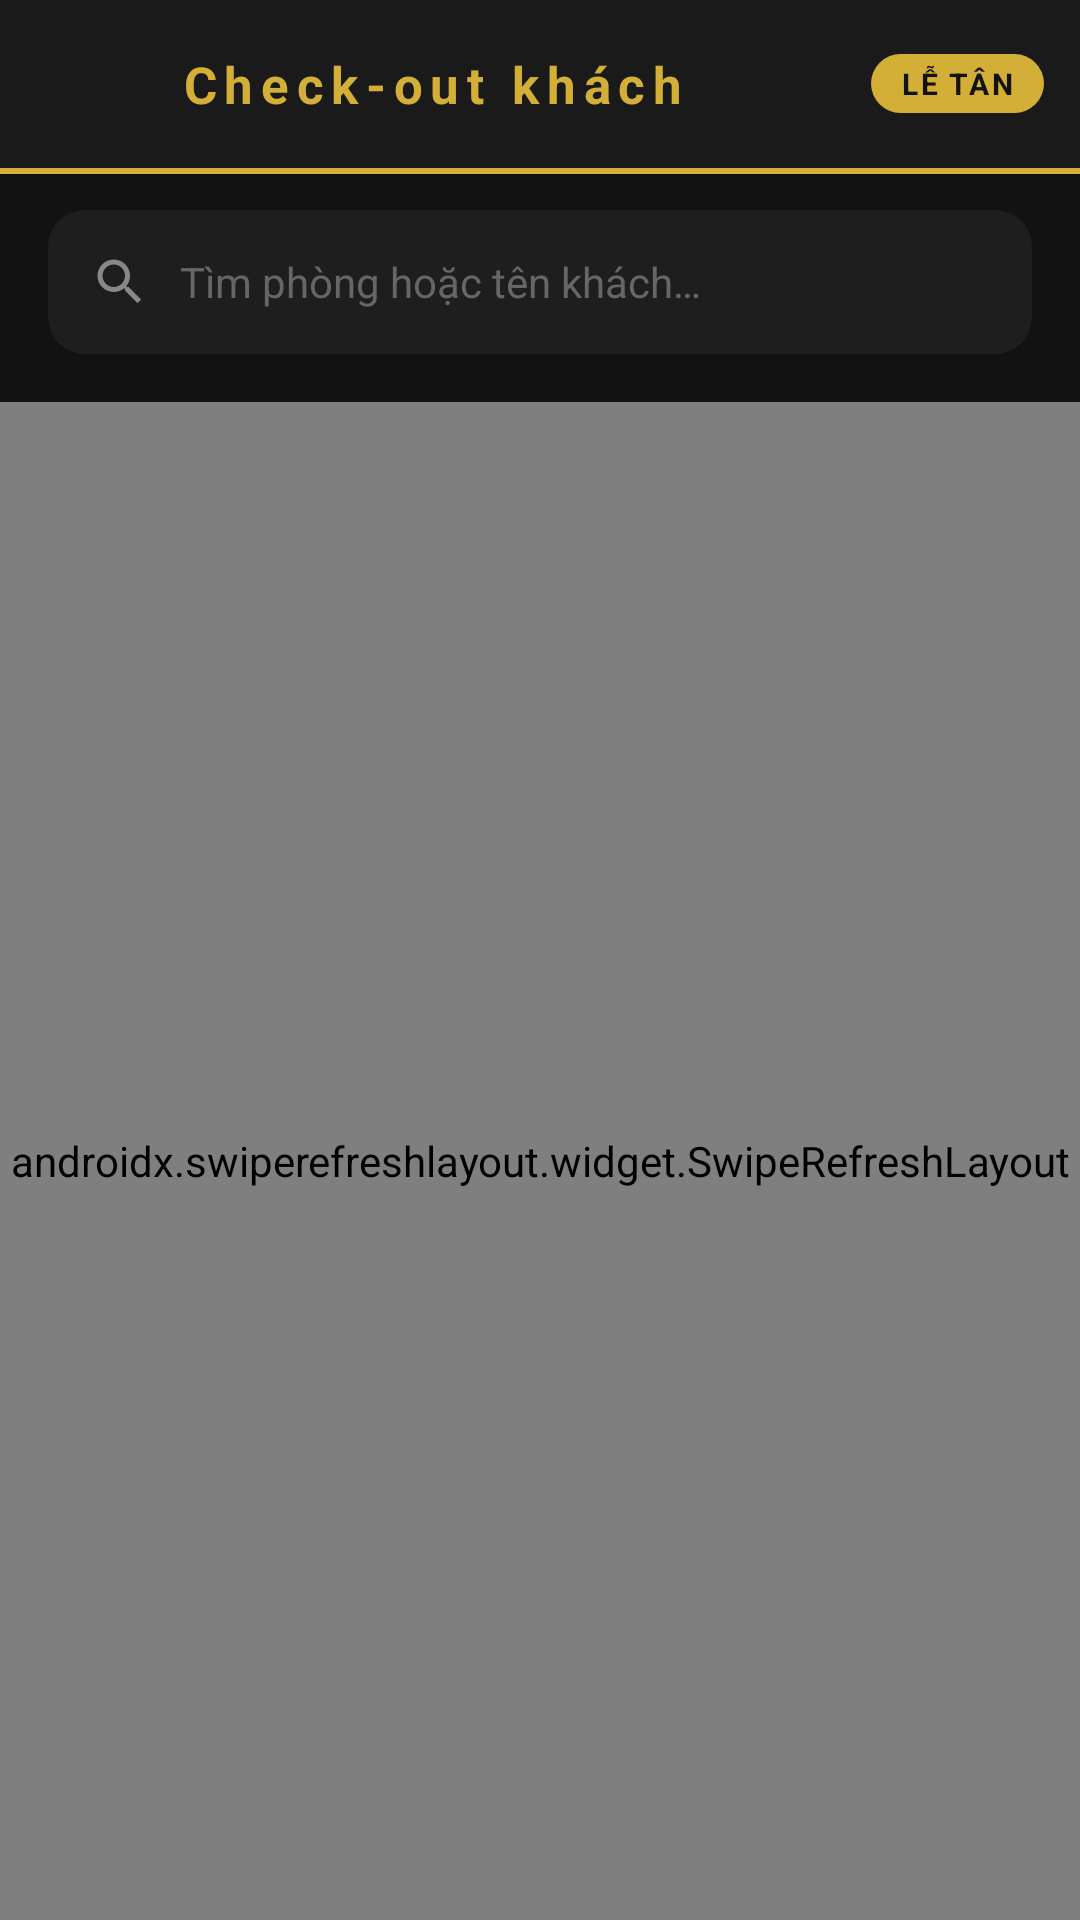

Icon bounding boxes for this 1080w x 1920h phone screenshot, format [x1,y1,x2,y2]:
search: [97,259,141,303]
